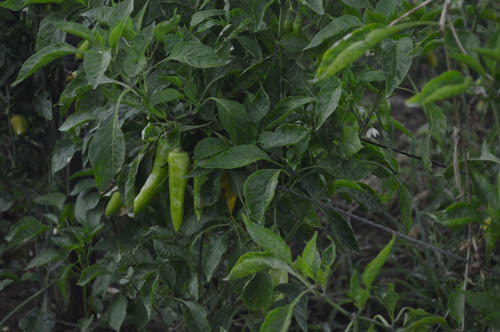ChiliPepper: (131, 142, 167, 221), (166, 153, 194, 231)
